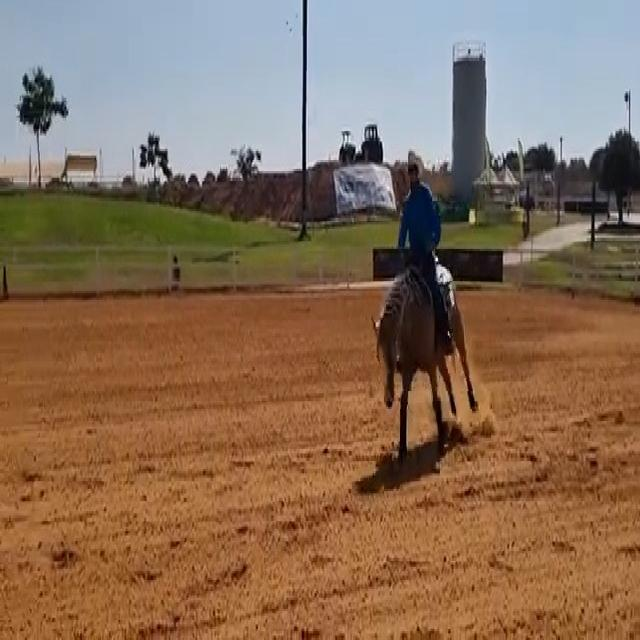horse: (370, 253, 479, 464)
